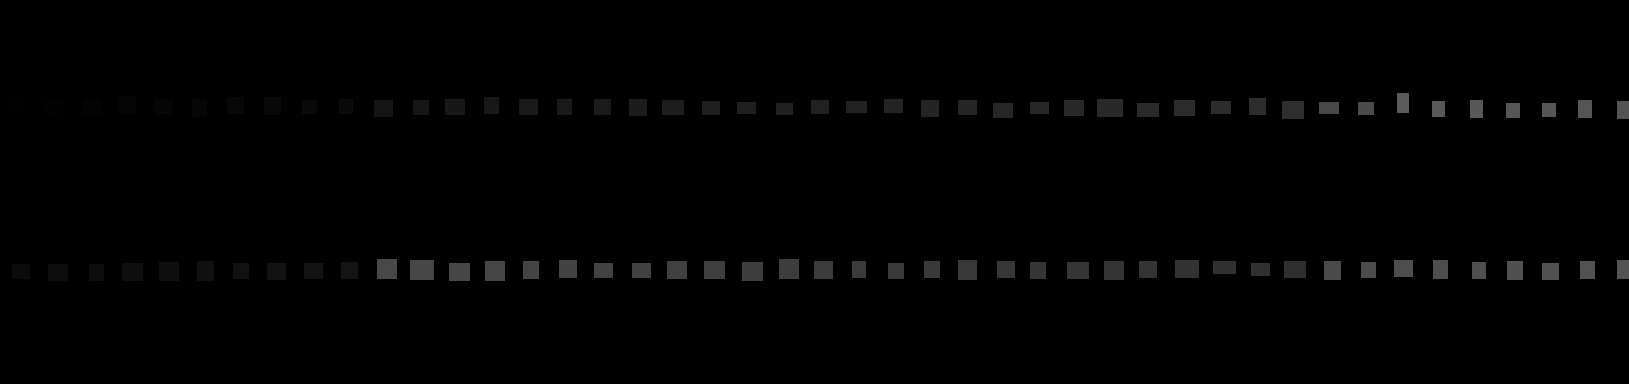light: (1097, 99, 1123, 117), (410, 260, 434, 280), (1175, 260, 1199, 278), (742, 262, 763, 281), (485, 260, 505, 281), (122, 263, 143, 281), (1282, 101, 1304, 119), (159, 262, 179, 281), (1104, 260, 1124, 280), (779, 259, 799, 279), (377, 259, 397, 279), (704, 260, 725, 279), (449, 263, 470, 281), (1284, 260, 1306, 278), (1067, 262, 1089, 279), (958, 260, 977, 280), (667, 260, 687, 279), (814, 260, 833, 279), (48, 264, 68, 281), (1324, 260, 1341, 280), (197, 260, 214, 281), (445, 99, 465, 115), (1174, 100, 1195, 116), (662, 100, 684, 115), (1137, 103, 1159, 117), (118, 95, 136, 114), (267, 263, 286, 280), (374, 100, 393, 117), (629, 99, 647, 116), (1139, 260, 1157, 278), (10, 95, 27, 115), (154, 99, 173, 115), (1064, 100, 1084, 116), (226, 97, 244, 114), (341, 262, 358, 279), (922, 100, 939, 117), (1249, 98, 1266, 115), (997, 260, 1015, 278), (559, 260, 577, 278), (1542, 263, 1559, 280), (264, 97, 281, 115), (304, 263, 323, 279), (519, 99, 538, 115), (523, 260, 539, 279), (1394, 260, 1413, 277), (1213, 260, 1236, 274), (993, 103, 1013, 118), (632, 263, 651, 278), (1507, 260, 1523, 280), (83, 99, 101, 115), (1030, 262, 1046, 279), (924, 260, 940, 278), (45, 99, 63, 114), (958, 100, 977, 115), (594, 263, 613, 278), (1433, 260, 1448, 279), (233, 263, 249, 279), (594, 99, 611, 115), (12, 264, 30, 279), (192, 99, 207, 117), (846, 101, 867, 113), (884, 99, 903, 113), (1580, 260, 1595, 279), (1211, 101, 1231, 114), (557, 99, 572, 115), (888, 263, 904, 279), (89, 264, 104, 281), (484, 97, 499, 114), (702, 101, 720, 115), (811, 100, 829, 114), (852, 260, 866, 278), (1251, 263, 1270, 276), (1578, 100, 1592, 118), (737, 102, 756, 114), (1030, 102, 1049, 114), (1319, 102, 1339, 114), (413, 100, 429, 115), (1361, 262, 1376, 278), (1472, 262, 1486, 279), (1617, 260, 1629, 279), (1617, 101, 1629, 119), (1470, 100, 1483, 118), (339, 99, 353, 114), (1397, 93, 1409, 113), (1358, 102, 1374, 115), (1432, 101, 1445, 117), (302, 100, 317, 114), (1542, 103, 1556, 117), (1506, 103, 1520, 118), (776, 103, 793, 115)
